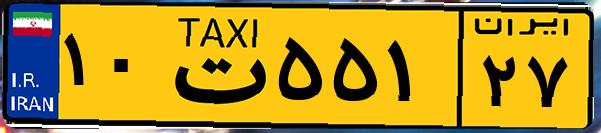0: (110, 28, 158, 98)
1: (385, 28, 445, 110), (57, 26, 110, 100)
2: (475, 38, 525, 113)
5: (270, 28, 330, 110), (330, 28, 385, 110)
7: (525, 38, 570, 115)
ت: (158, 12, 270, 120)
